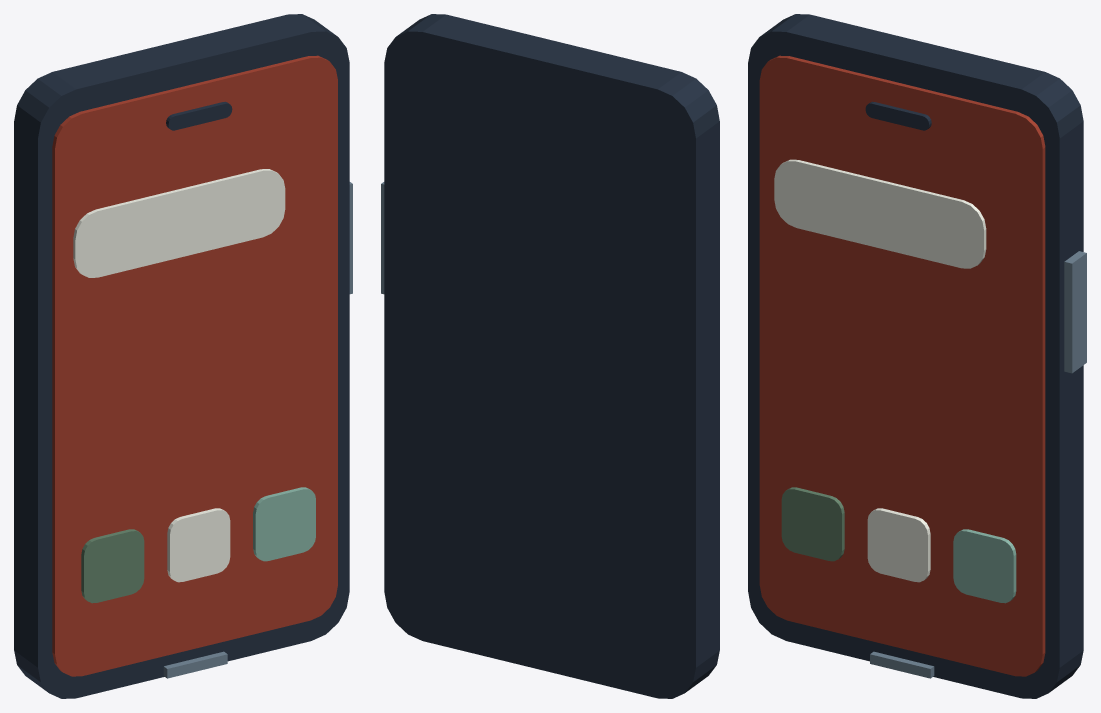
File: phone.glb
3 renders of one model, left to right at view 1: azimuth 30°, elevation 25°; view 2: azimuth 150°, elevation 25°; view 3: azimuth 330°, elevation 25°, orthographic.
Parts seen in each view (by area): view 1: screen, case, widget, app 1, app 0, app 2, earpiece, port; view 2: case; view 3: screen, case, widget, app 0, app 1, app 2, side switch, earpiece, port.
Part boxes in pixels (x1,y1,x2,y2): screen: [52, 55, 337, 676]; case: [14, 14, 349, 698]; widget: [73, 169, 285, 277]; app 1: [167, 508, 230, 582]; app 0: [81, 529, 144, 603]; app 2: [253, 487, 315, 561]; earpiece: [166, 101, 232, 130]; port: [163, 651, 227, 678]; case: [384, 14, 719, 698]; screen: [759, 55, 1045, 676]; case: [748, 14, 1083, 698]; widget: [774, 159, 986, 268]; app 0: [781, 487, 844, 561]; app 1: [867, 508, 930, 582]; app 2: [953, 529, 1016, 603]; side switch: [1064, 251, 1086, 373]; earpiece: [865, 101, 931, 130]; port: [870, 651, 934, 678].
Size of the model in its own units: 1 by 1.83 by 0.166.
